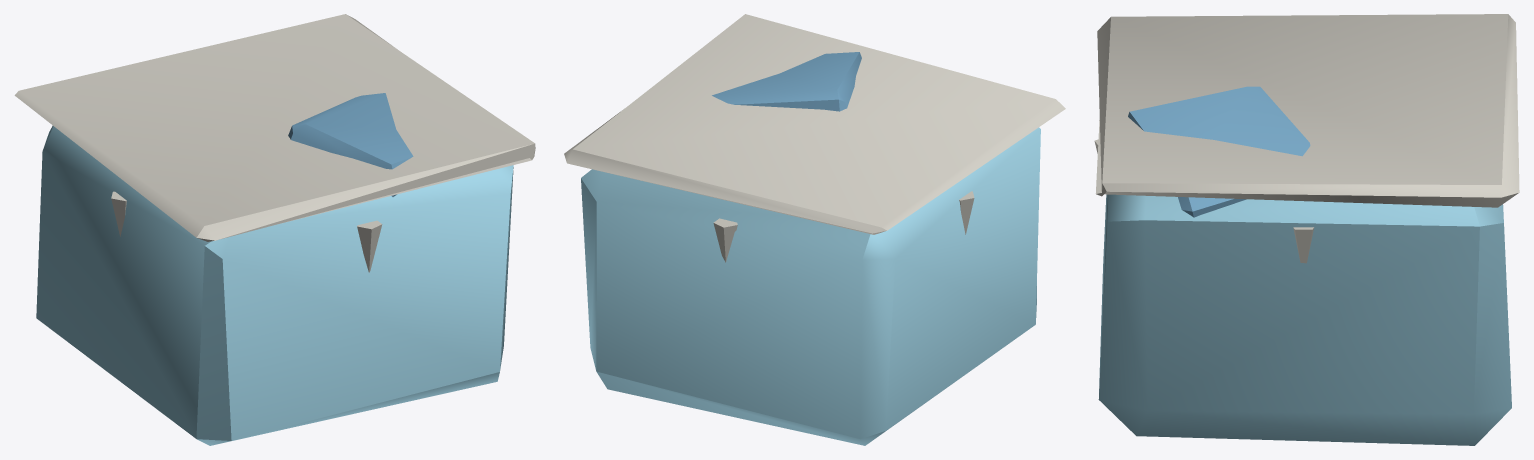
File: 396_bloc_glace.fbx
The picture shows the model from 3 angles, left to right: view 1: azimuth 30°, elevation 25°; view 2: azimuth 150°, elevation 25°; view 3: azimuth 270°, elevation 25°; orthographic projection. The views are drawn at different scales.
Visible parts, largest first — view 1: Glace, Givre; view 2: Glace, Givre; view 3: Glace, Givre.
Part boxes in pixels (x1,y1,x2,y2): Glace: (36,93,513,445); Givre: (14,14,535,272); Glace: (581,52,1040,445); Givre: (564,14,1065,262); Glace: (1098,86,1511,445); Givre: (1094,14,1519,263).
Bounding box in the file's own units: 2.24 × 1.68 × 2.24.
Materials: 1 (1 with a texture image).
